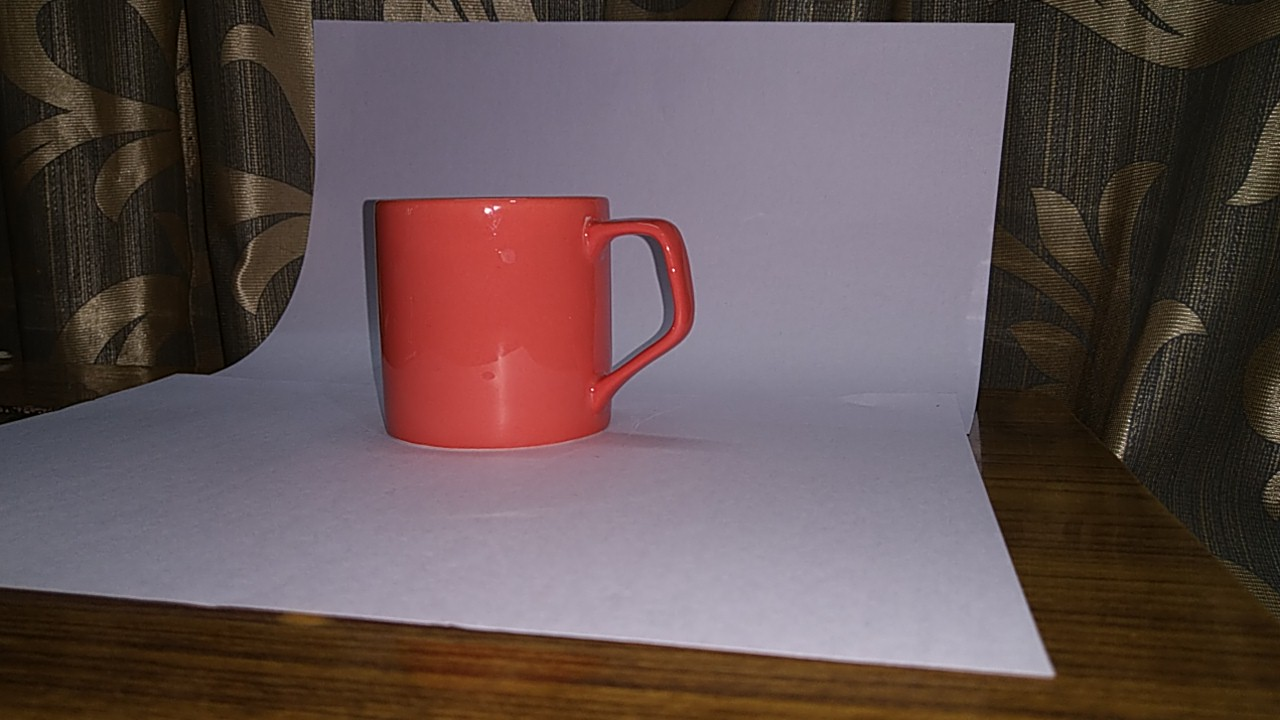cup: (356, 181, 708, 464)
